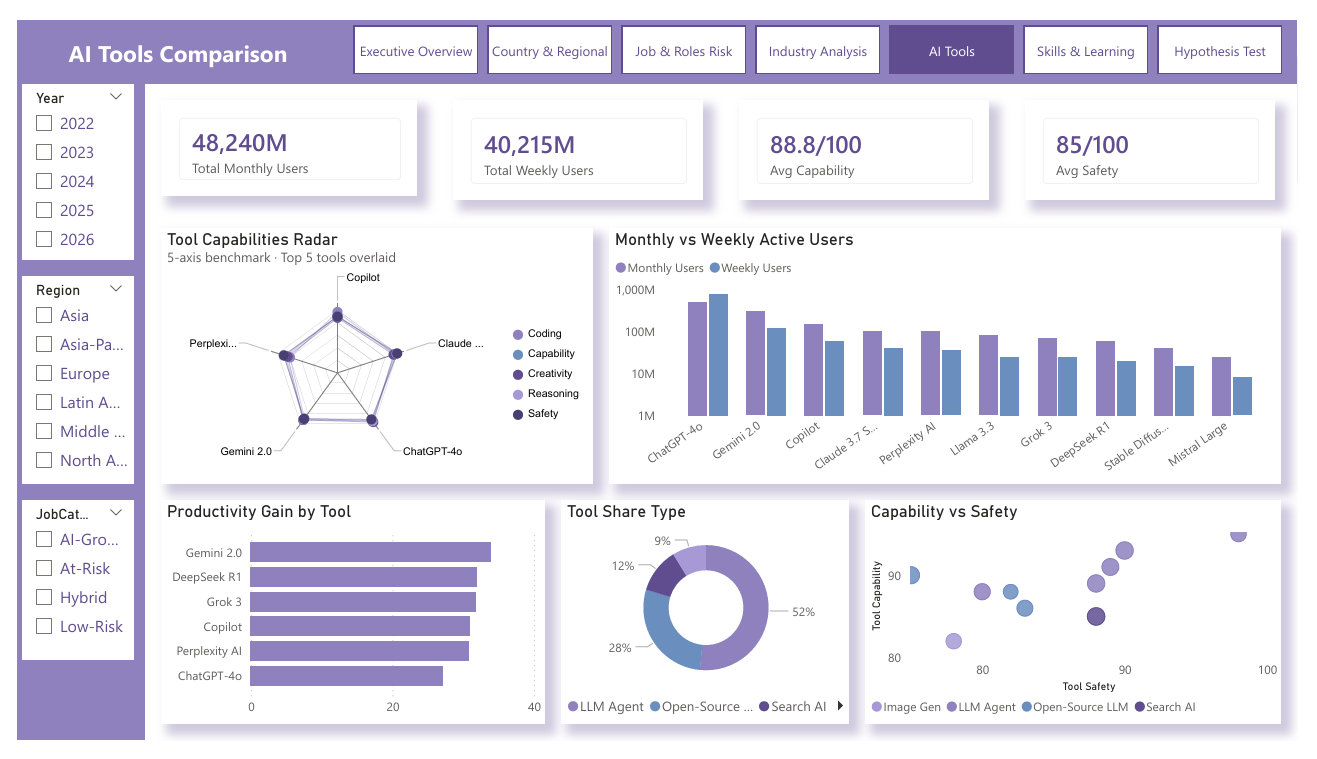

Layout of this report page (visuals, bound fields, positions):
{"tool":"powerbi","page":{"name":" AI Tools","canvas":[1280,720],"ordinal":4},"visuals":[{"type":"shape","box":[0,0,1280,64],"z":0},{"type":"shape","box":[0,64,128,656],"z":1000},{"type":"cardVisual","fields":{"Data":["Measure.Avg Safety"]},"box":[1008,80,250,100],"z":2000},{"type":"cardVisual","fields":{"Data":["Measure.Total Monthly Users"]},"box":[144,80,256,96],"z":3000},{"type":"cardVisual","fields":{"Data":["Measure.Avg Capability"]},"box":[722,80,250,100],"z":4000},{"type":"cardVisual","fields":{"Data":["Measure.Total Weekly Users"]},"box":[436,80,250,100],"z":5000},{"type":"RadarChart1446119667547","title":"Tool Capabilities Radar","fields":{"Category":["Fact_JobsAI.ToolName"],"Y":["Avg(Fact_JobsAI.Tool_Coding)","Avg(Fact_JobsAI.Tool_Capability)","Avg(Fact_JobsAI.Tool_Creativity)","Avg(Fact_JobsAI.Tool_Reasoning)","Avg(Fact_JobsAI.Tool_Safety)"]},"box":[144,208,432,256],"z":6000},{"type":"clusteredColumnChart","title":"Monthly vs Weekly Active Users","fields":{"Y":["Avg(Fact_JobsAI.Tool_MonthlyUsrM)","Avg(Fact_JobsAI.Tool_WeeklyUsrM)"],"Category":["Fact_JobsAI.ToolName"]},"box":[592,208,672,256],"z":7000},{"type":"barChart","title":"Productivity Gain by Tool","fields":{"Category":["Fact_JobsAI.ToolName"],"Y":["Avg(Fact_JobsAI.ProductivityGain%)"]},"box":[144,480,384,224],"z":8000},{"type":"donutChart","title":"Tool Share Type","fields":{"Category":["Fact_JobsAI.ToolType"],"Y":["CountNonNull(Fact_JobsAI.ToolType)"]},"box":[544,480,288,224],"z":9000},{"type":"scatterChart","title":"Capability vs Safety","fields":{"X":["Fact_JobsAI.Tool_Safety"],"Y":["Fact_JobsAI.Tool_Capability"],"Series":["Fact_JobsAI.ToolType"],"Size":["CountNonNull(Fact_JobsAI.ToolType)"]},"box":[848,480,416,224],"z":10000},{"type":"slicer","fields":{"Values":["Dim_Date.Year"]},"box":[5,64,112,176],"z":11000},{"type":"slicer","fields":{"Values":["Fact_JobsAI.Region"]},"box":[5,256,112,208],"z":12000},{"type":"slicer","fields":{"Values":["Fact_JobsAI.JobCategory"]},"box":[5,480,112,160],"z":13000},{"type":"shape","box":[0,0,320,64],"z":15000},{"type":"pageNavigator","box":[336,5,928,48],"z":15001}]}

Visuals, with their boxes in screenshot pixels (x1, y1, x2, y2), scaled from the page's 1280x720 canvas onto the 1317x759 screenshot:
shape: [0,0,1316,67]
shape: [0,67,132,758]
cardVisual - Measure.Avg Safety: [1037,84,1294,190]
cardVisual - Measure.Total Monthly Users: [148,84,412,186]
cardVisual - Measure.Avg Capability: [743,84,1000,190]
cardVisual - Measure.Total Weekly Users: [449,84,706,190]
"Tool Capabilities Radar" RadarChart1446119667547: [148,219,593,489]
"Monthly vs Weekly Active Users" clusteredColumnChart: [609,219,1301,489]
"Productivity Gain by Tool" barChart: [148,506,543,742]
"Tool Share Type" donutChart: [560,506,856,742]
"Capability vs Safety" scatterChart: [873,506,1301,742]
slicer - Dim_Date.Year: [5,67,120,253]
slicer - Fact_JobsAI.Region: [5,270,120,489]
slicer - Fact_JobsAI.JobCategory: [5,506,120,675]
shape: [0,0,329,67]
pageNavigator: [346,5,1301,56]
